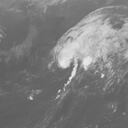cyclone: (51, 25, 105, 71)
